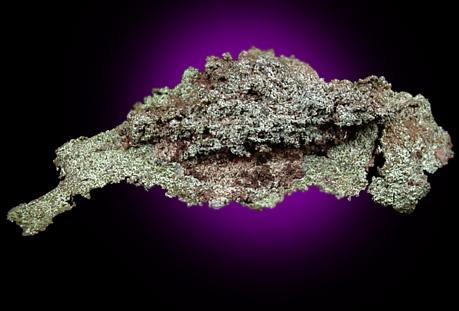copper: (122, 48, 402, 202)
